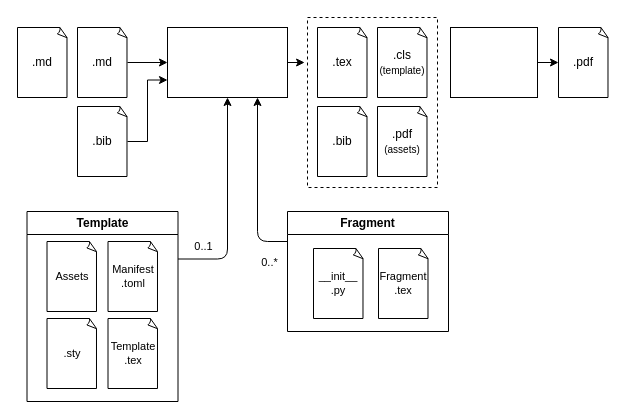
Some shapes in this 626 by 419 pixel diagram are drawn without their labels. The shapes that lost their labels are listed below. From the top down, each one's box as (x1, y1, x2, y2) in pixels, then its label:
(166, 26, 288, 98): TeXSmith (convert)
(450, 26, 538, 98): TeXSmith (build)
